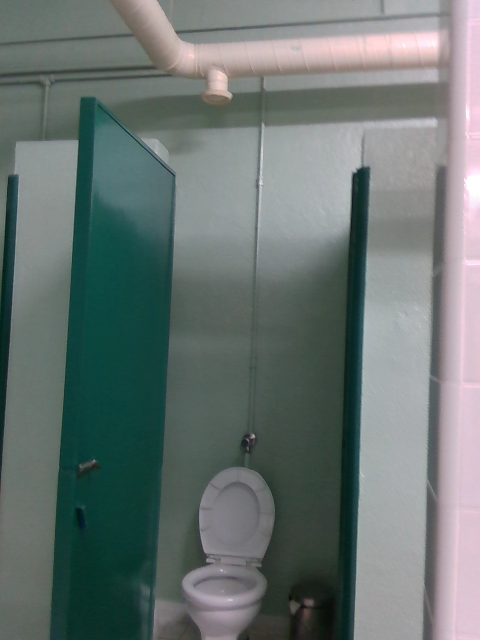open: (50, 103, 184, 639)
